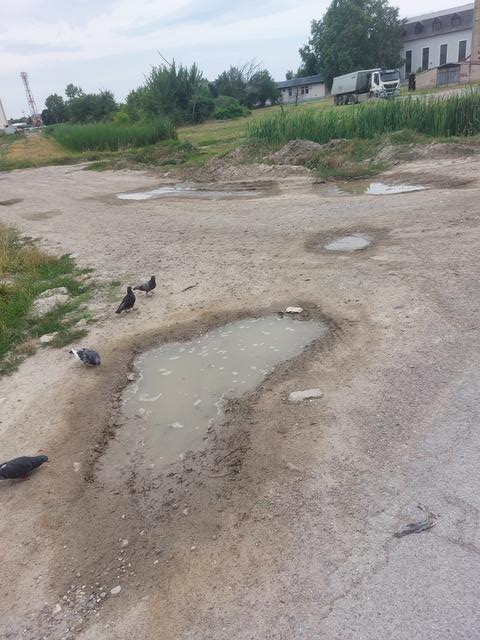pothole: (134, 307, 323, 485), (110, 178, 289, 224), (351, 166, 429, 200), (319, 222, 375, 258)
